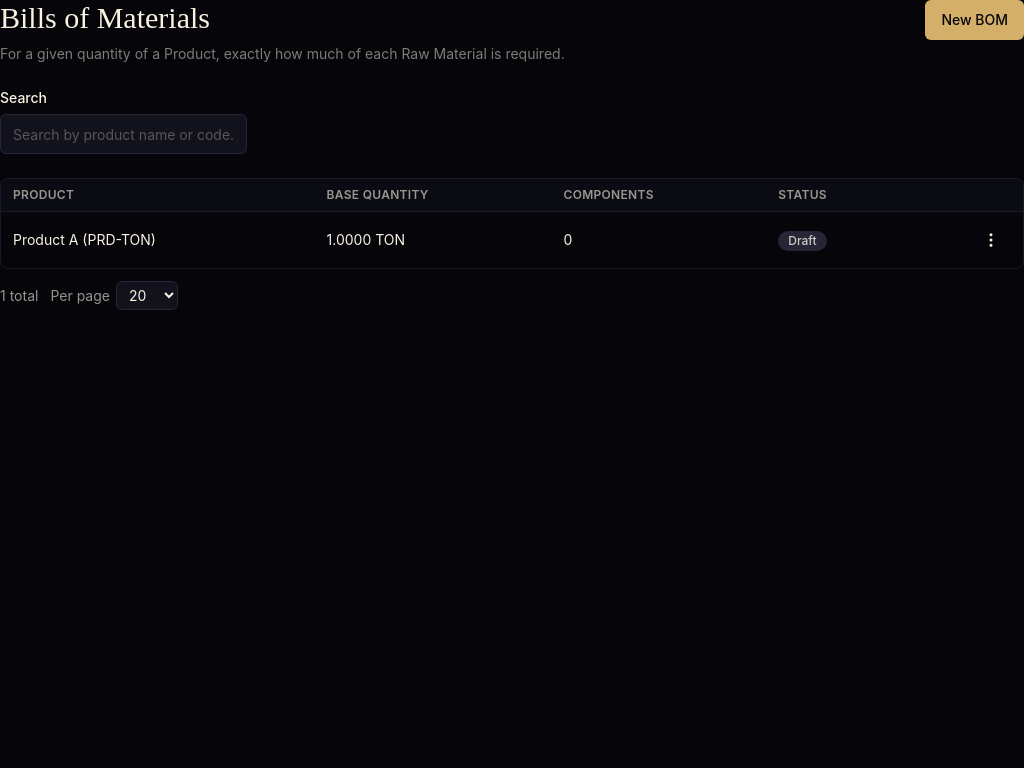
BomsPage › warns that only an active BOM can calculate requirements when the BOM is still draft
Expected: the text "Product A (PRD-TON)" is shown, x1=1 y1=212 x2=315 y2=268
Step 1. Click the button named "Actions for" → (991, 240), box x1=971 y1=220 x2=1011 y2=260
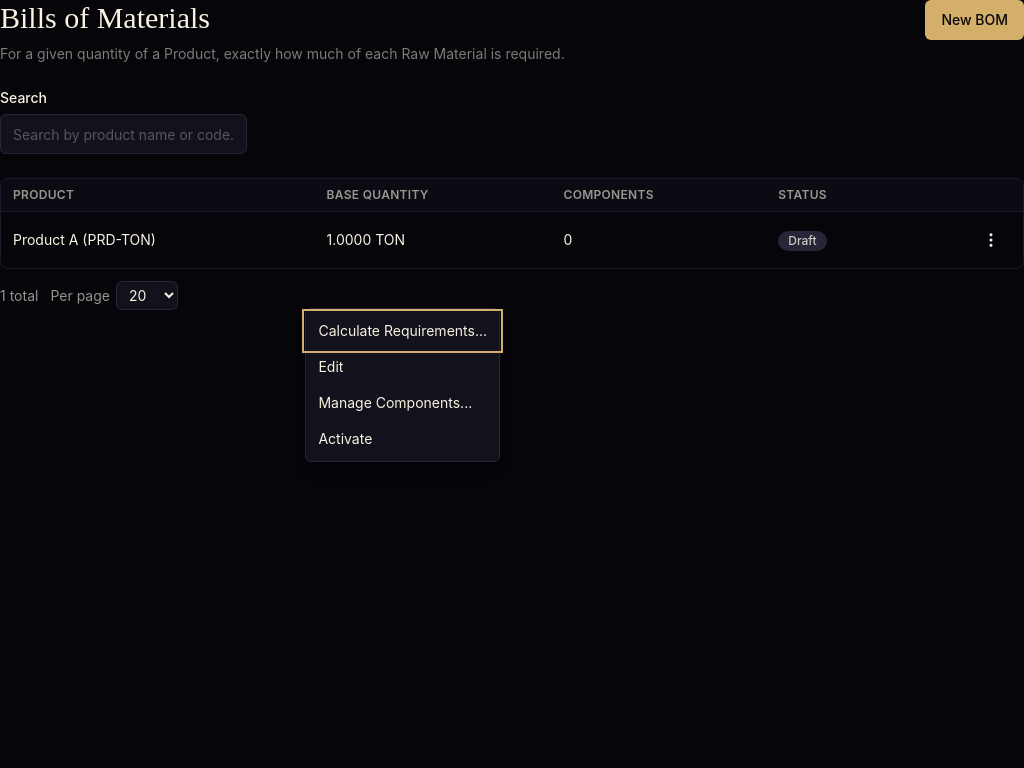
Step 2. Click the menu item "Calculate Requirements..." → (403, 331), box x1=306 y1=313 x2=499 y2=349
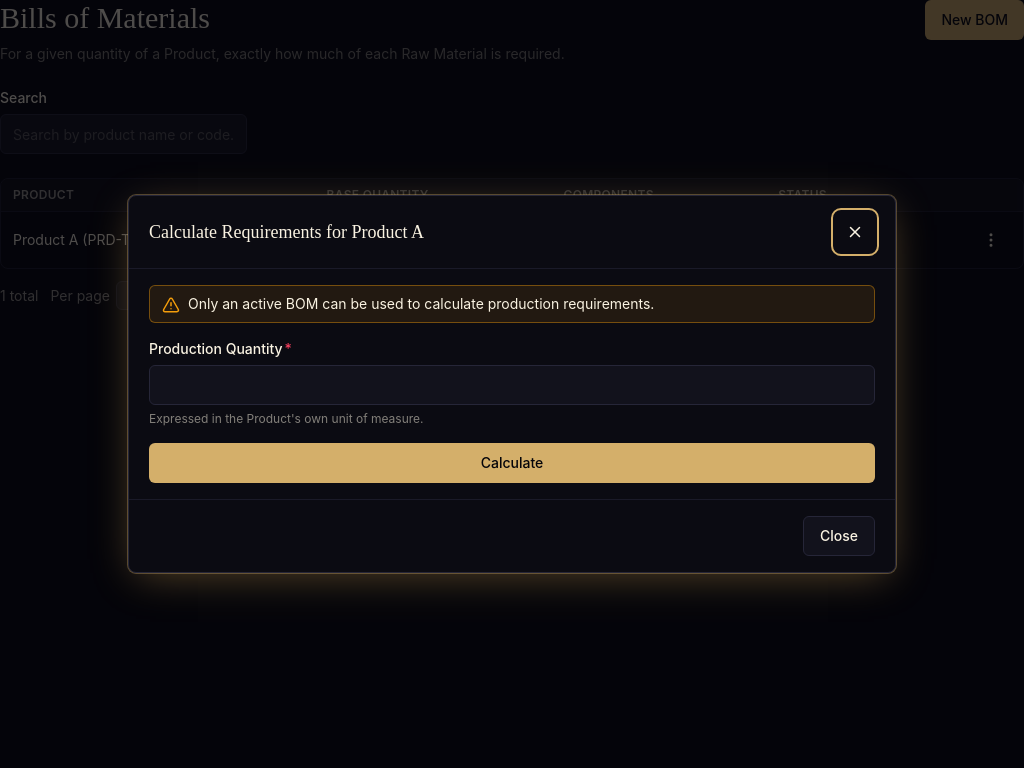
Expected: the text "Only an active BOM can be used to calculate production requirements." is shown, x1=188 y1=294 x2=654 y2=314
